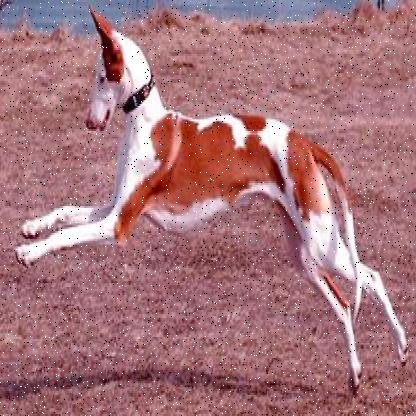dog: (19, 0, 410, 402)
